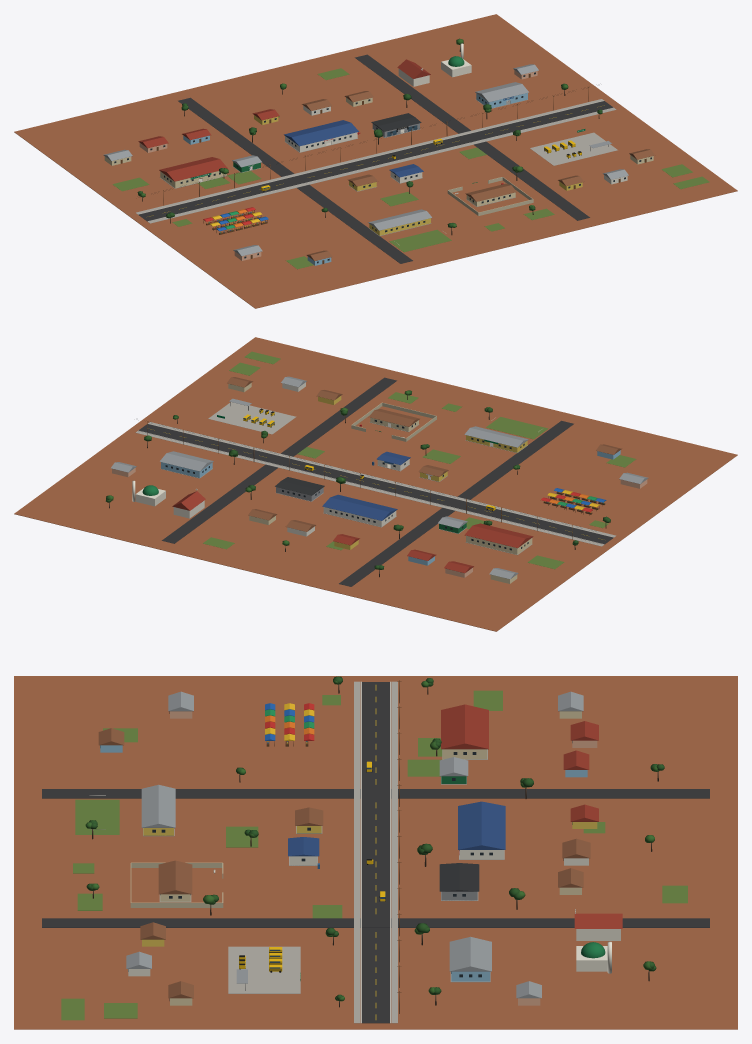
File: town.fbx
The picture shows the model from 3 angles, top to bottom: view 1: azimuth 30°, elevation 25°; view 2: azimuth 150°, elevation 25°; view 3: azimuth 270°, elevation 25°; orthographic projection. The views are drawn at different scales.
Visible parts, largest first — view 1: Ground, RoadMain_NOCOL, RoadWest_NOCOL, RoadEast_NOCOL, Walk-1_NOCOL, ParkSlab_NOCOL, Walk1_NOCOL, Hospital_Roof_NOCOL, LGASecretariat_Roof_NOCOL, SchoolField_NOCOL, School_Roof_NOCOL, CommunityHall_Roof_NOCOL (+4 smaller); view 2: Ground, RoadMain_NOCOL, RoadWest_NOCOL, RoadEast_NOCOL, ParkSlab_NOCOL, Walk1_NOCOL, Walk-1_NOCOL, Hospital_Roof_NOCOL, LGASecretariat_Roof_NOCOL, SchoolField_NOCOL, School_Roof_NOCOL, CommunityHall_Roof_NOCOL (+4 smaller); view 3: Ground, RoadMain_NOCOL, RoadWest_NOCOL, RoadEast_NOCOL, ParkSlab_NOCOL, Walk-1_NOCOL, Walk1_NOCOL, Hospital_Roof_NOCOL, LGASecretariat_Roof_NOCOL, SchoolField_NOCOL, School_Roof_NOCOL, CommunityHall_Roof_NOCOL (+5 smaller).
Part boxes in pixels (left/top/right/bottom): Ground: left=14, top=14, right=737, bottom=308; RoadMain_NOCOL: left=138, top=101, right=613, bottom=221; RoadWest_NOCOL: left=178, top=97, right=412, bottom=263; RoadEast_NOCOL: left=355, top=54, right=589, bottom=220; Walk-1_NOCOL: left=148, top=108, right=616, bottom=223; ParkSlab_NOCOL: left=530, top=132, right=617, bottom=165; Walk1_NOCOL: left=135, top=99, right=603, bottom=214; Hospital_Roof_NOCOL: left=284, top=120, right=358, bottom=146; LGASecretariat_Roof_NOCOL: left=159, top=157, right=227, bottom=181; SchoolField_NOCOL: left=389, top=229, right=451, bottom=252; School_Roof_NOCOL: left=368, top=209, right=432, bottom=230; CommunityHall_Roof_NOCOL: left=475, top=82, right=529, bottom=102; Ground: left=14, top=337, right=737, bottom=631; RoadMain_NOCOL: left=138, top=424, right=613, bottom=544; RoadWest_NOCOL: left=339, top=420, right=573, bottom=586; RoadEast_NOCOL: left=162, top=377, right=396, bottom=543; ParkSlab_NOCOL: left=208, top=402, right=296, bottom=434; Walk1_NOCOL: left=135, top=431, right=603, bottom=546; Walk-1_NOCOL: left=148, top=422, right=616, bottom=537; Hospital_Roof_NOCOL: left=322, top=494, right=397, bottom=520; LGASecretariat_Roof_NOCOL: left=464, top=523, right=533, bottom=548; SchoolField_NOCOL: left=486, top=417, right=548, bottom=439; School_Roof_NOCOL: left=464, top=426, right=528, bottom=447; CommunityHall_Roof_NOCOL: left=160, top=451, right=213, bottom=471; Ground: left=14, top=676, right=737, bottom=1029; RoadMain_NOCOL: left=362, top=682, right=389, bottom=1023; RoadWest_NOCOL: left=42, top=789, right=709, bottom=798; RoadEast_NOCOL: left=42, top=918, right=709, bottom=927; ParkSlab_NOCOL: left=228, top=946, right=300, bottom=993; Walk-1_NOCOL: left=354, top=681, right=360, bottom=1023; Walk1_NOCOL: left=391, top=681, right=397, bottom=1023; Hospital_Roof_NOCOL: left=458, top=801, right=505, bottom=849; LGASecretariat_Roof_NOCOL: left=441, top=704, right=488, bottom=749; SchoolField_NOCOL: left=75, top=799, right=119, bottom=834; School_Roof_NOCOL: left=141, top=784, right=175, bottom=827; CommunityHall_Roof_NOCOL: left=449, top=936, right=491, bottom=971.
Bounding box in the file's own units: 300 × 12.2 × 260.
